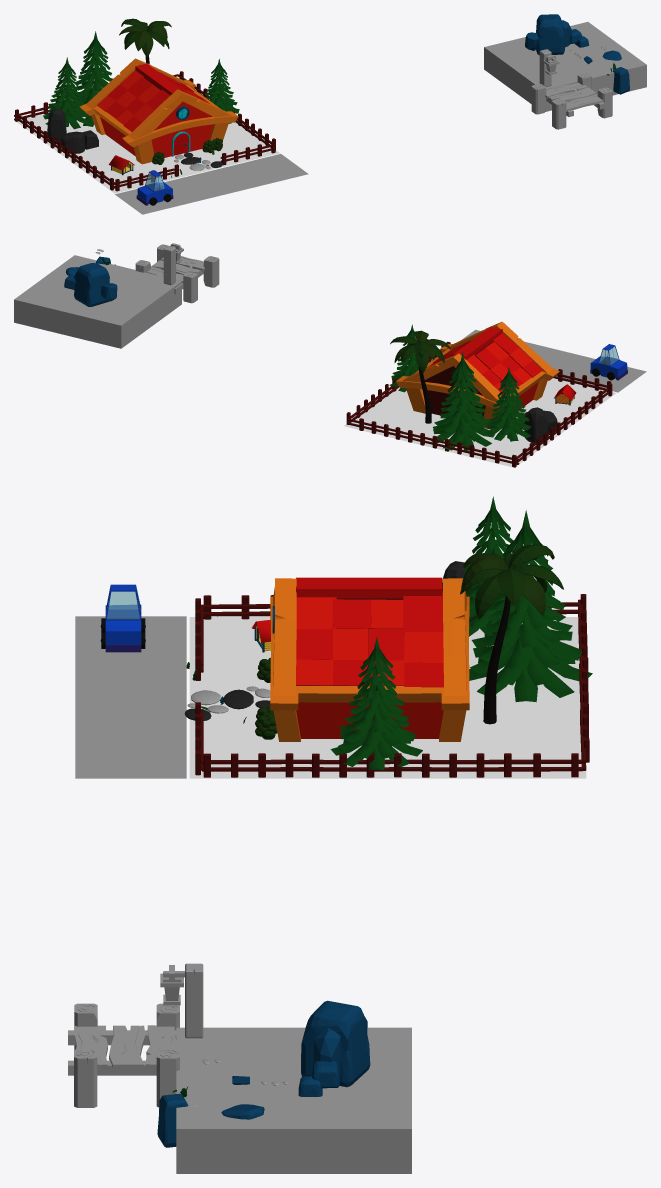
Rendered from leyla_teytey.FBX.
3 renders of one model, top to bottom at view 1: azimuth 30°, elevation 25°; view 2: azimuth 150°, elevation 25°; view 3: azimuth 270°, elevation 25°, orthographic. The views are drawn at different scales.
Visible parts, largest first — view 1: Base_Cubo_044, Plane001, wood_Cubo_001, Plane002, walls_Cubo, Fir_tree002, Fir_tree001, Palm-tree002, Cubo_056_Cubo_071, Fir_tree, Box001, Box002 (+11 smaller); view 2: Base_Cubo_044, Plane001, wood_Cubo_001, Fir_tree002, Fir_tree001, Plane002, Palm-tree002, Cubo_056_Cubo_071, walls_Cubo, Box001, Cubo_103_Cubo_118, Box002 (+4 smaller); view 3: Base_Cubo_044, Plane001, Plane002, wood_Cubo_001, Fir_tree002, Palm-tree002, Fir_tree, Cubo_056_Cubo_071, walls_Cubo, Box002, Box001, Fir_tree001 (+16 smaller).
Part boxes in pixels (box(x1,y1,x2,y2)): Base_Cubo_044: box(484, 22, 646, 111); Plane001: box(17, 114, 279, 193); wood_Cubo_001: box(79, 58, 238, 164); Plane002: box(115, 154, 308, 214); walls_Cubo: box(100, 77, 213, 157); Fir_tree002: box(73, 31, 112, 126); Fir_tree001: box(43, 57, 90, 129); Palm-tree002: box(119, 18, 171, 64); Cubo_056_Cubo_071: box(536, 14, 564, 55); Fir_tree: box(205, 59, 239, 123); Box001: box(136, 170, 173, 205); Box002: box(135, 63, 183, 95); Base_Cubo_044: box(14, 255, 181, 348); Plane001: box(344, 378, 616, 467); wood_Cubo_001: box(396, 321, 559, 429); Fir_tree002: box(431, 352, 495, 450); Fir_tree001: box(484, 367, 531, 441); Plane002: box(461, 329, 646, 392); Palm-tree002: box(390, 330, 450, 423); Cubo_056_Cubo_071: box(74, 263, 109, 306); walls_Cubo: box(425, 341, 538, 420); Box001: box(590, 344, 627, 380); Cubo_103_Cubo_118: box(524, 407, 548, 443); Box002: box(453, 326, 502, 359); Base_Cubo_044: box(176, 1027, 411, 1173); Plane001: box(189, 617, 586, 778); Plane002: box(75, 616, 186, 778); wood_Cubo_001: box(270, 578, 469, 741); Fir_tree002: box(469, 510, 592, 702); Palm-tree002: box(460, 544, 563, 724); Fir_tree: box(330, 637, 422, 770); Cubo_056_Cubo_071: box(301, 1000, 370, 1087); walls_Cubo: box(296, 584, 443, 738); Box002: box(296, 577, 442, 598); Box001: box(105, 584, 141, 652); Fir_tree001: box(463, 496, 522, 638).
Bounding box in the file's own units: 66.41 × 12.71 × 28.4.
